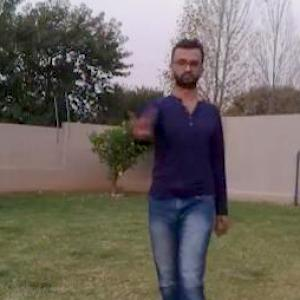takeoff-hand: (118, 100, 161, 140)
